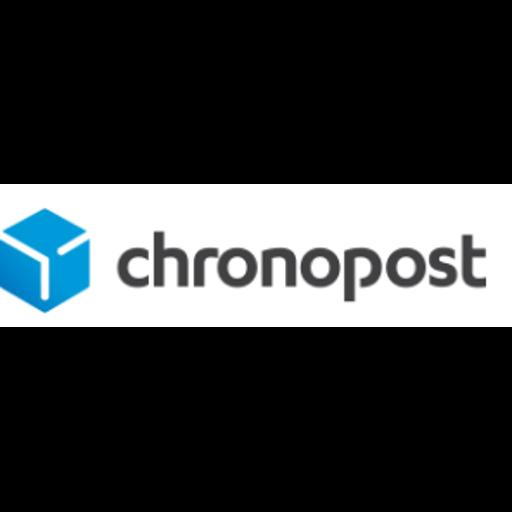Chronopost International: (0, 184, 512, 327)
